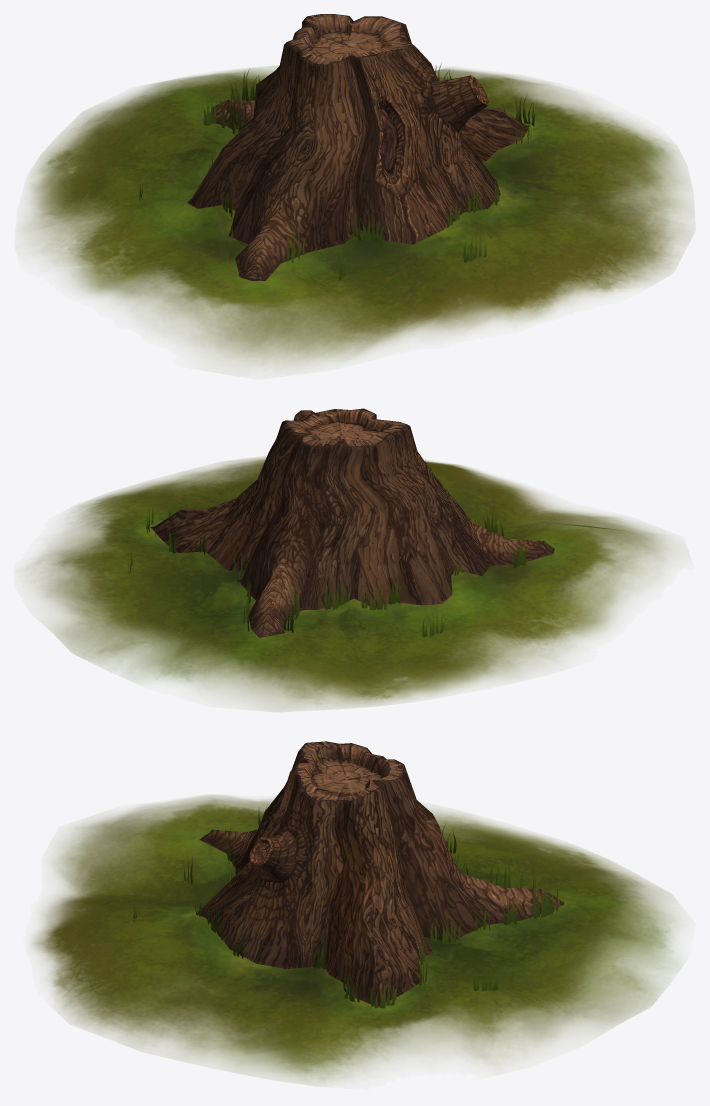
The model's file is low_poly_tree_stump.glb.
3 views of the same model, one above another, from view 1: azimuth 30°, elevation 25°; view 2: azimuth 150°, elevation 25°; view 3: azimuth 270°, elevation 25° (orthographic). The views are drawn at different scales.
Parts seen in each view (by area): view 1: Stump_TREE:Stump_TREE:polySurface7, Stump_TREE:polySurface6; view 2: Stump_TREE:Stump_TREE:polySurface7, Stump_TREE:polySurface6; view 3: Stump_TREE:Stump_TREE:polySurface7, Stump_TREE:polySurface6.
Boxes of the visible parts, box(x1,y1,x2,y2) form: Stump_TREE:Stump_TREE:polySurface7: box(22, 66, 694, 368); Stump_TREE:polySurface6: box(187, 14, 529, 280); Stump_TREE:Stump_TREE:polySurface7: box(25, 456, 673, 711); Stump_TREE:polySurface6: box(150, 408, 554, 637); Stump_TREE:Stump_TREE:polySurface7: box(32, 795, 678, 1084); Stump_TREE:polySurface6: box(197, 741, 565, 1006).
Bounding box in the file's own units: 294 × 77.95 × 280.
3 materials, 3 textured.
